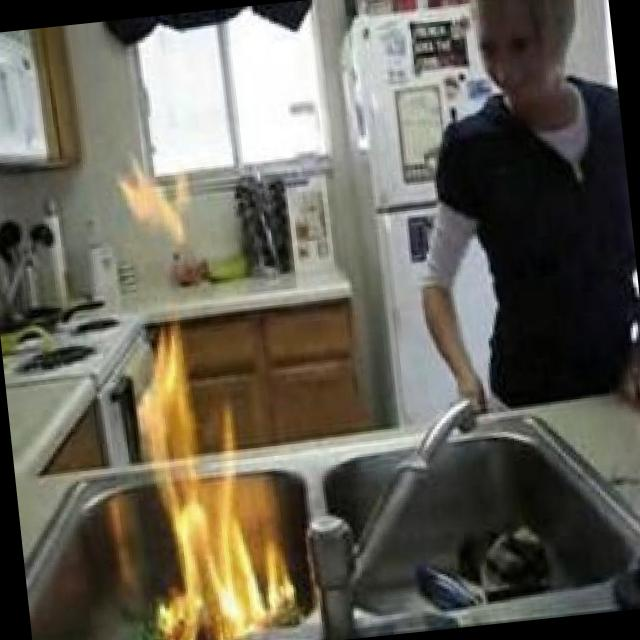Fire: (122, 305, 293, 640), (116, 147, 213, 259)
